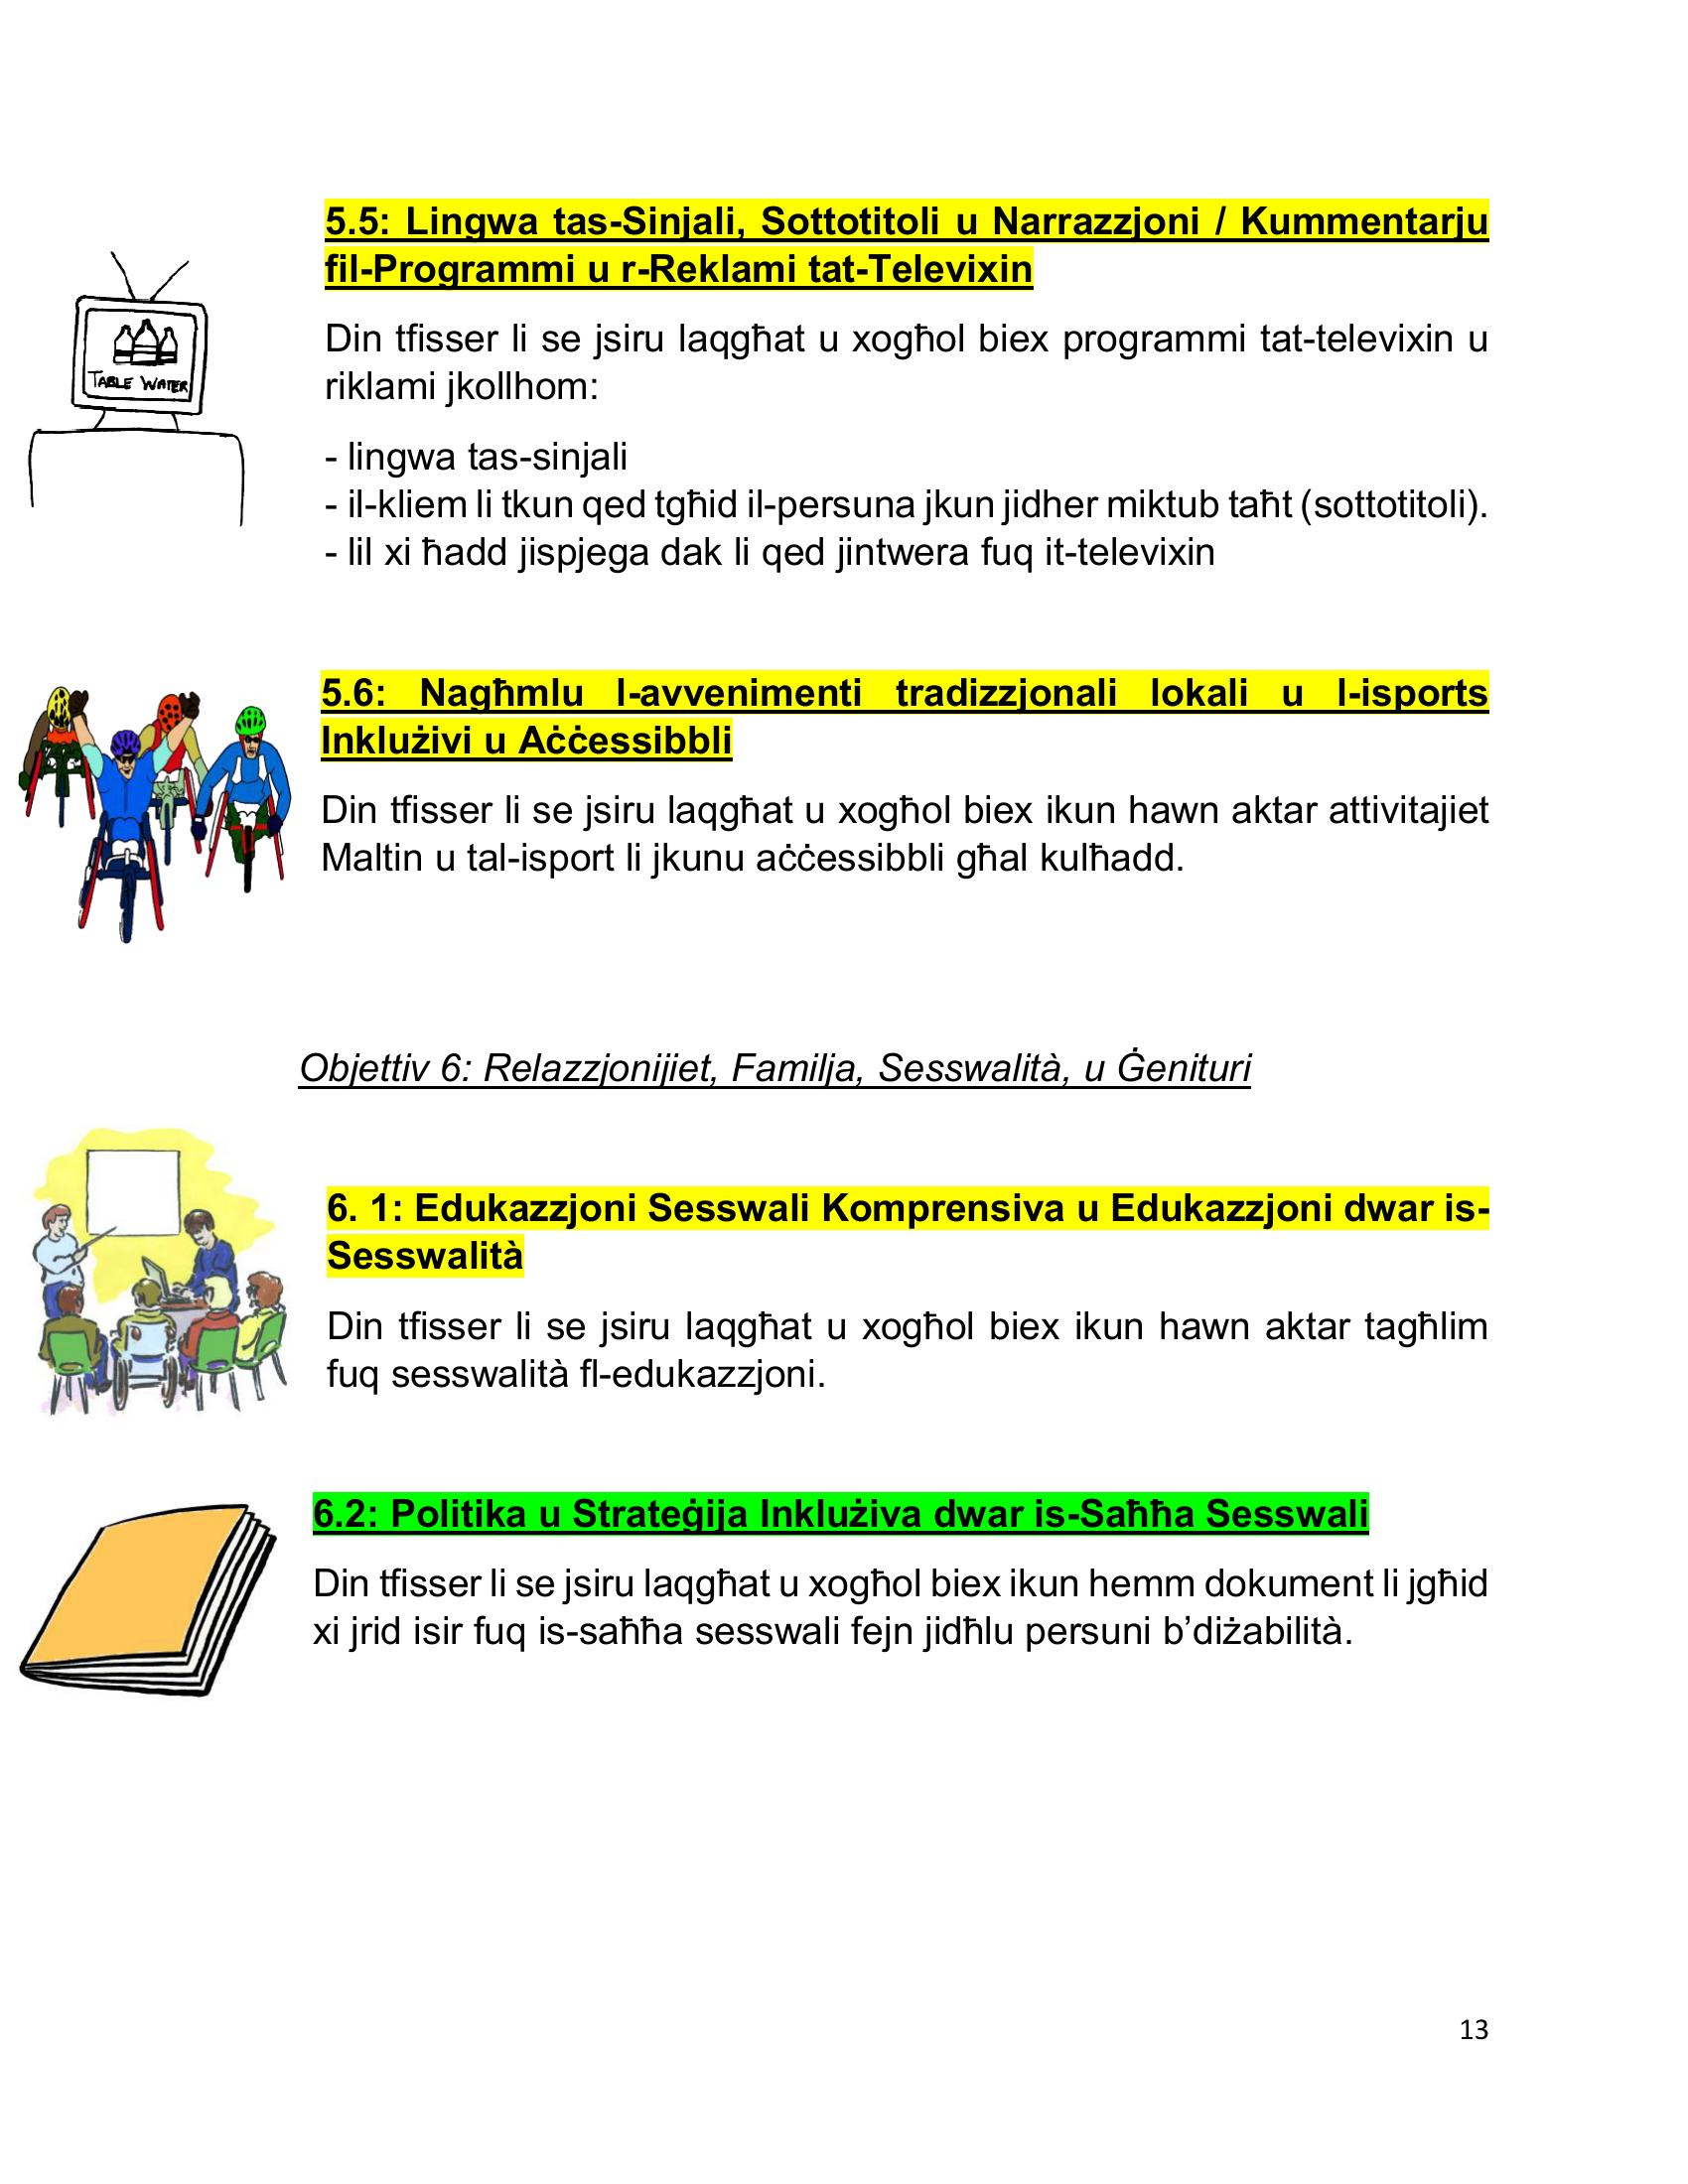text: (296, 172, 1528, 1727)
